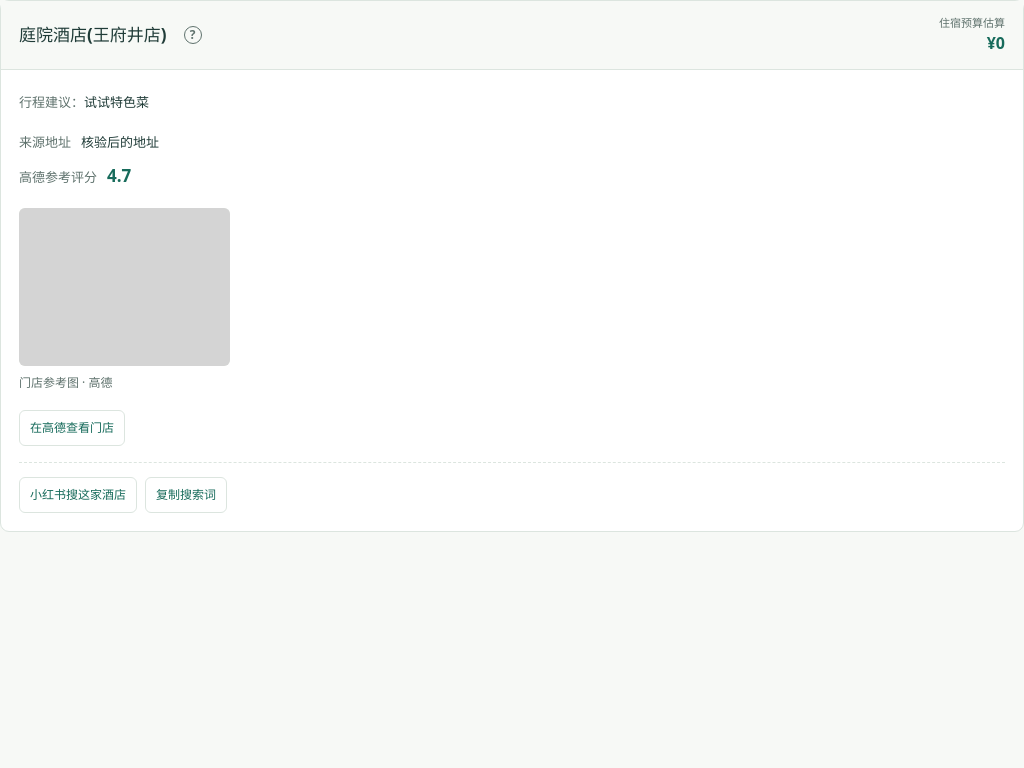
Test: places unverified hotel type and distance inside the single help panel
The image size is (1024, 768).
Expected: the text "经济型酒店" is not shown
Expected: the text "步行10分钟" is not shown
What coordinates should you click on to do the following:
click the button named "门店资料说明"
I would click on:
 (192, 35)
Its box is [174,17,210,53].
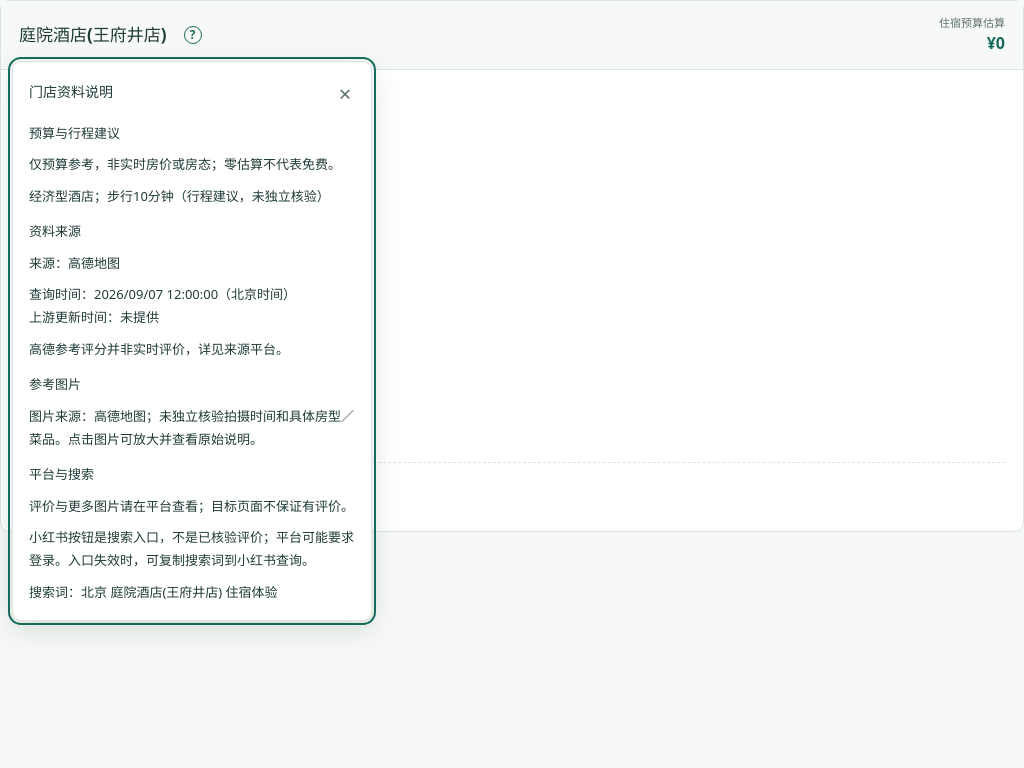
Expected: the dialog with class "info-hint-panel" shows "经济型酒店；步行10分钟（行程建议，未独立核验）", [29,187,330,205]
